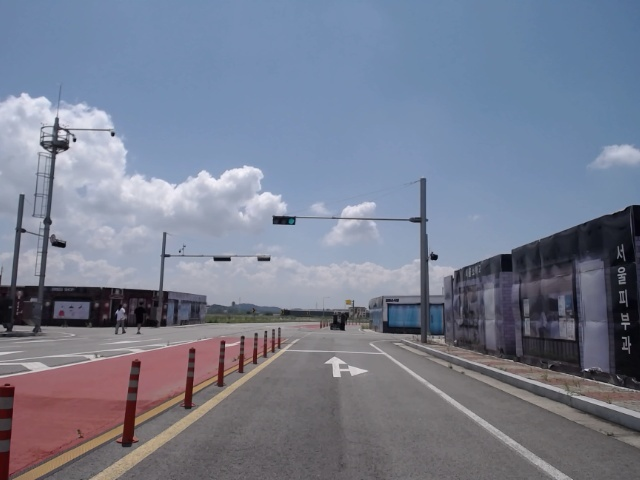green_3: (272, 216, 295, 224)
